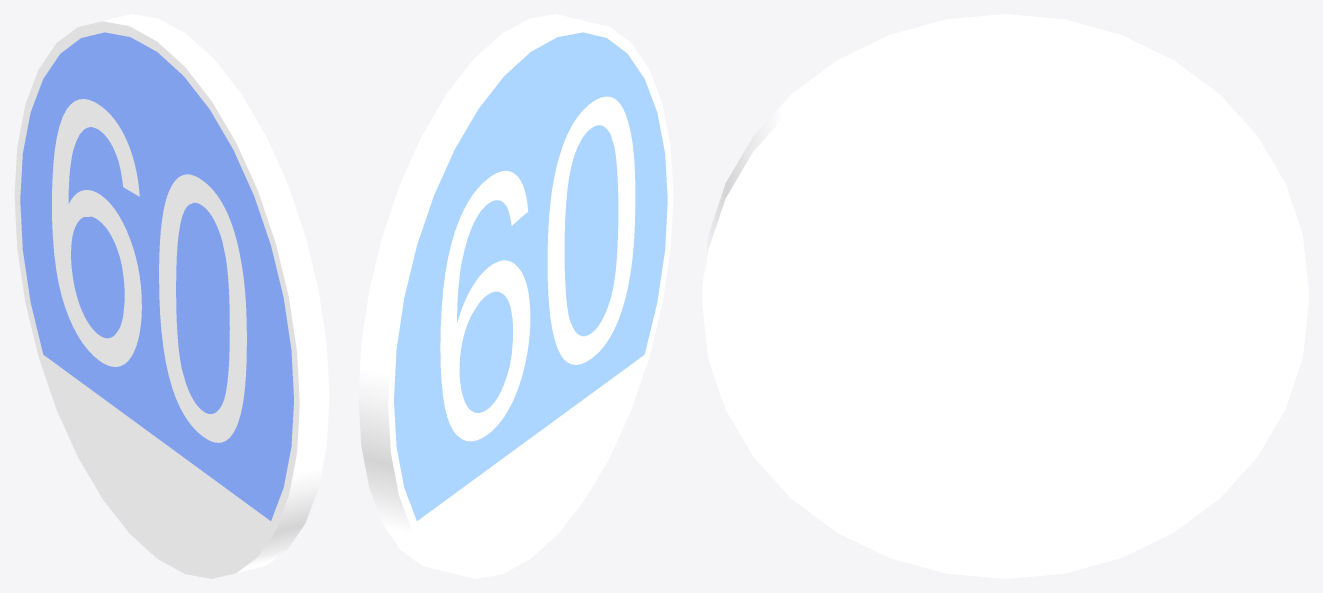
The model's file is Minimum_Speed_Limit_60.glb.
3 views of the same model, side by side, from view 1: azimuth 30°, elevation 25°; view 2: azimuth 150°, elevation 25°; view 3: azimuth 270°, elevation 25° (orthographic). The views are drawn at different scales.
Parts seen in each view (by area): view 1: Minimum_Speed_Limit_60; view 2: Minimum_Speed_Limit_60; view 3: Minimum_Speed_Limit_60.
Part boxes in pixels (<box>): Minimum_Speed_Limit_60: <box>14,14,329,578</box>; Minimum_Speed_Limit_60: <box>358,14,673,578</box>; Minimum_Speed_Limit_60: <box>702,14,1308,578</box>.
Size of the model in its own units: 0.075 by 1 by 1.
